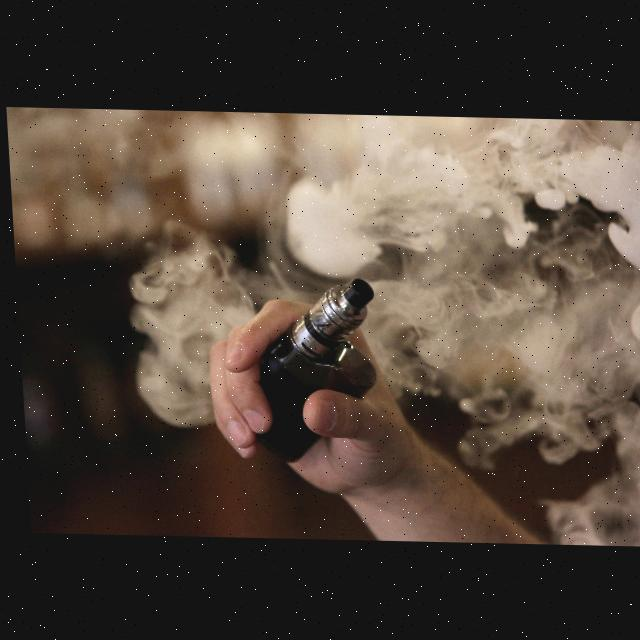vape: (240, 272, 380, 466)
